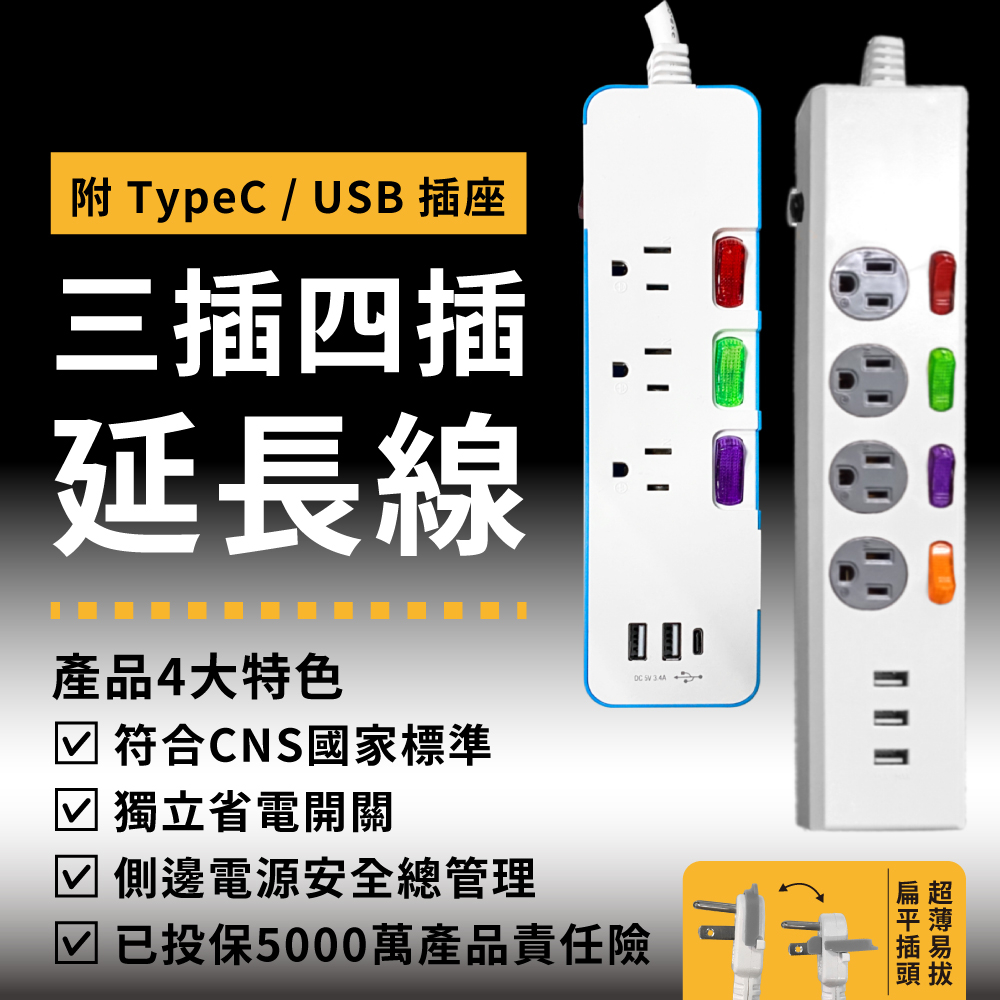socket: (784, 36, 968, 829), (581, 45, 766, 705)
